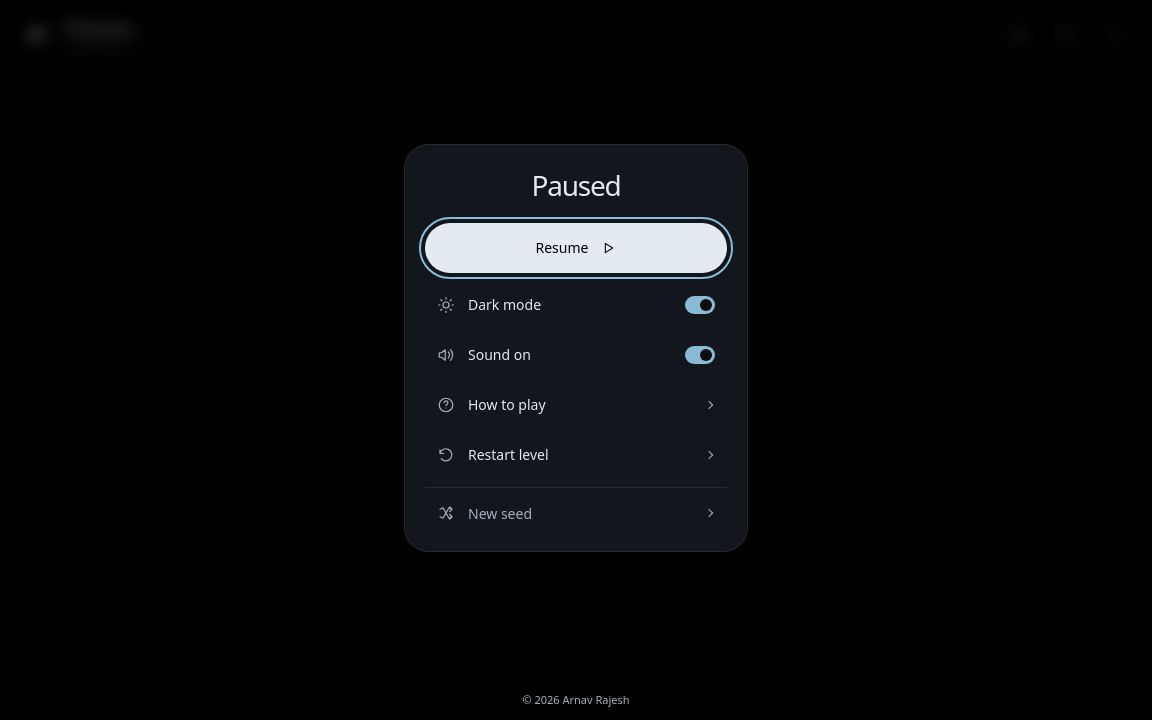
Test: minimal scene lifecycle › requires manual resume after hidden-tab return
The image size is (1152, 720).
Expected: the dialog "Paused" is shown, left=404, top=144, right=748, bottom=552
Click the button "Resume".
click(576, 248)  # box left=425, top=223, right=727, bottom=273
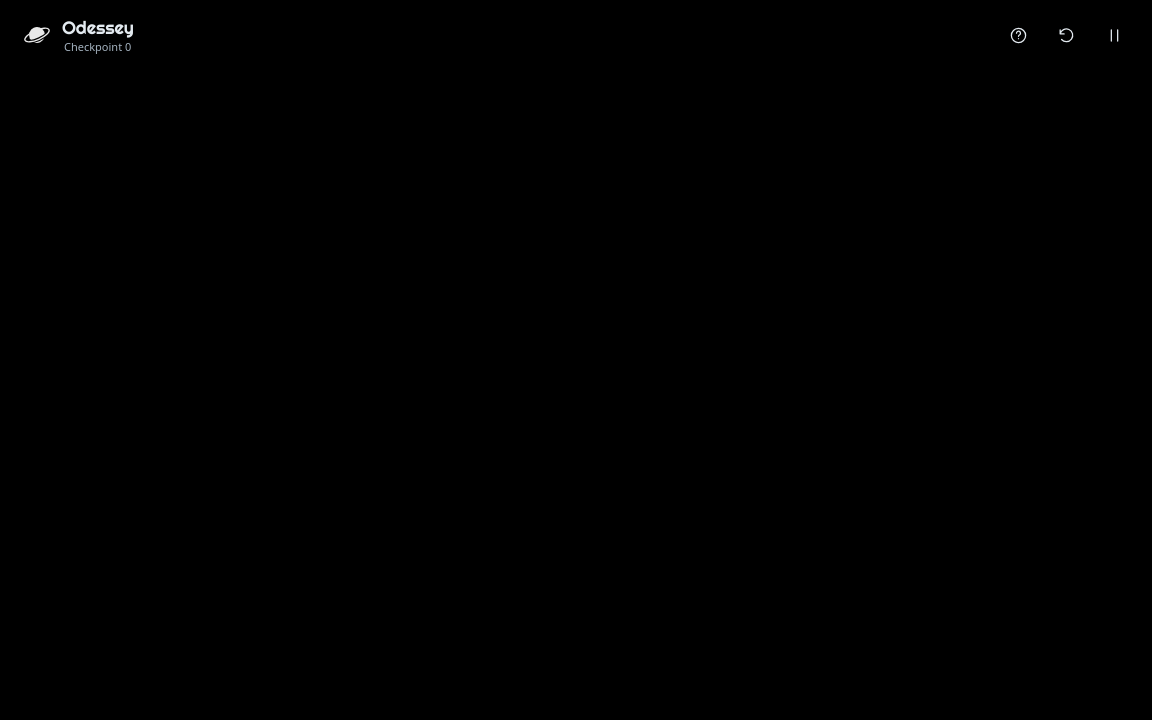
Expected: the dialog is gone
